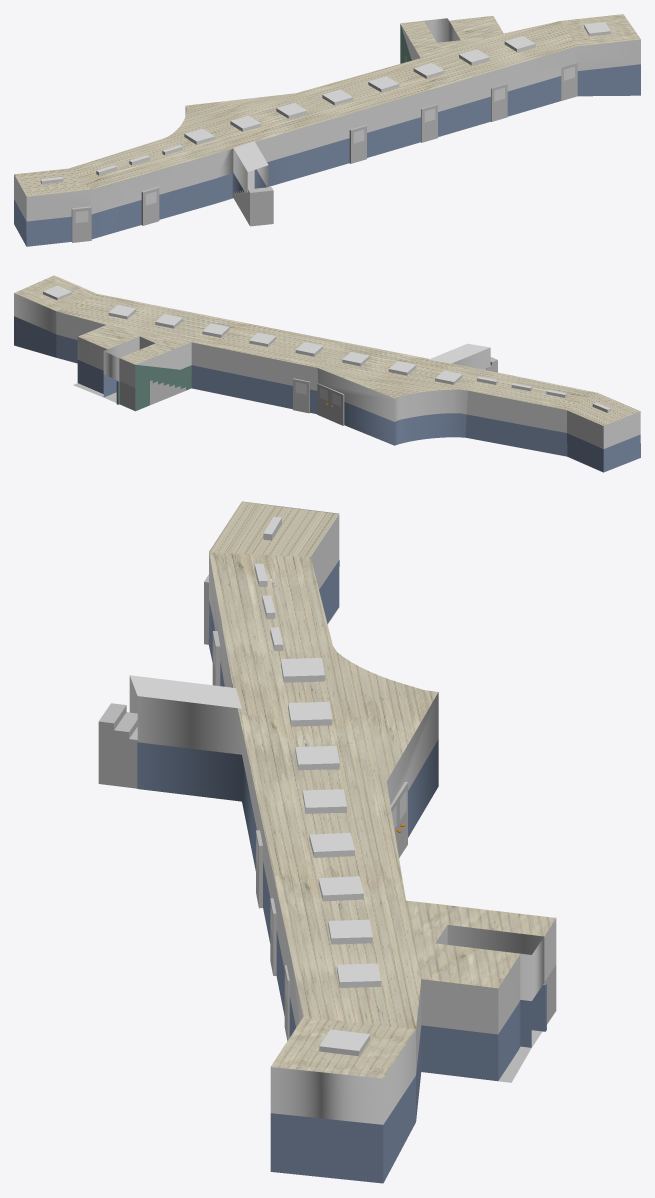
File: ipmbackrooms.fbx
The picture shows the model from 3 angles, top to bottom: view 1: azimuth 30°, elevation 25°; view 2: azimuth 150°, elevation 25°; view 3: azimuth 270°, elevation 25°; orthographic projection. The views are drawn at different scales.
Parts seen in each view (by area): view 1: Ceiling, WallUpWhite, WallDownBlue, Stairs2, Door5, Door4, Door2, Door1, Door, Door.001; view 2: Ceiling, WallUpWhite, WallDownBlue, Stairs1, Door.003, Door.004, Door.005; view 3: Ceiling, WallUpWhite, WallDownBlue, Stairs2, BigLight6, BigLight1, BigLight3, BigLight2, BigLight0, BigLight7, BigLight4, BigLight5 (+1 smaller).
Part boxes in pixels (x1=…): Ceiling: x1=14, y1=14, x2=640, y2=196; WallUpWhite: x1=14, y1=17, x2=640, y2=221; WallDownBlue: x1=14, y1=24, x2=640, y2=246; Stairs2: x1=233, y1=187, x2=273, y2=226; Door5: x1=71, y1=206, x2=91, y2=242; Door4: x1=141, y1=187, x2=159, y2=225; Door2: x1=349, y1=125, x2=366, y2=163; Door1: x1=421, y1=104, x2=437, y2=142; Door: x1=491, y1=83, x2=507, y2=121; Door.001: x1=561, y1=63, x2=577, y2=100; Ceiling: x1=14, y1=275, x2=639, y2=425; WallUpWhite: x1=14, y1=293, x2=640, y2=448; WallDownBlue: x1=14, y1=316, x2=640, y2=472; Stairs1: x1=120, y1=380, x2=185, y2=410; Door.003: x1=293, y1=378, x2=309, y2=413; Door.004: x1=330, y1=389, x2=344, y2=425; Door.005: x1=317, y1=383, x2=330, y2=419; Ceiling: x1=130, y1=501, x2=555, y2=1078; WallUpWhite: x1=129, y1=501, x2=556, y2=1124; WallDownBlue: x1=137, y1=560, x2=546, y2=1183; Stairs2: x1=98, y1=703, x2=137, y2=788; BigLight6: x1=288, y1=701, x2=332, y2=726; BigLight1: x1=328, y1=919, x2=372, y2=944; BigLight3: x1=309, y1=832, x2=354, y2=857; BigLight2: x1=318, y1=876, x2=363, y2=901; BigLight0: x1=319, y1=1029, x2=370, y2=1056; BigLight7: x1=281, y1=658, x2=324, y2=682; BigLight4: x1=302, y1=789, x2=346, y2=813; BigLight5: x1=295, y1=746, x2=339, y2=770.
Bounding box in the file's own units: 3964 × 357 × 1328.
